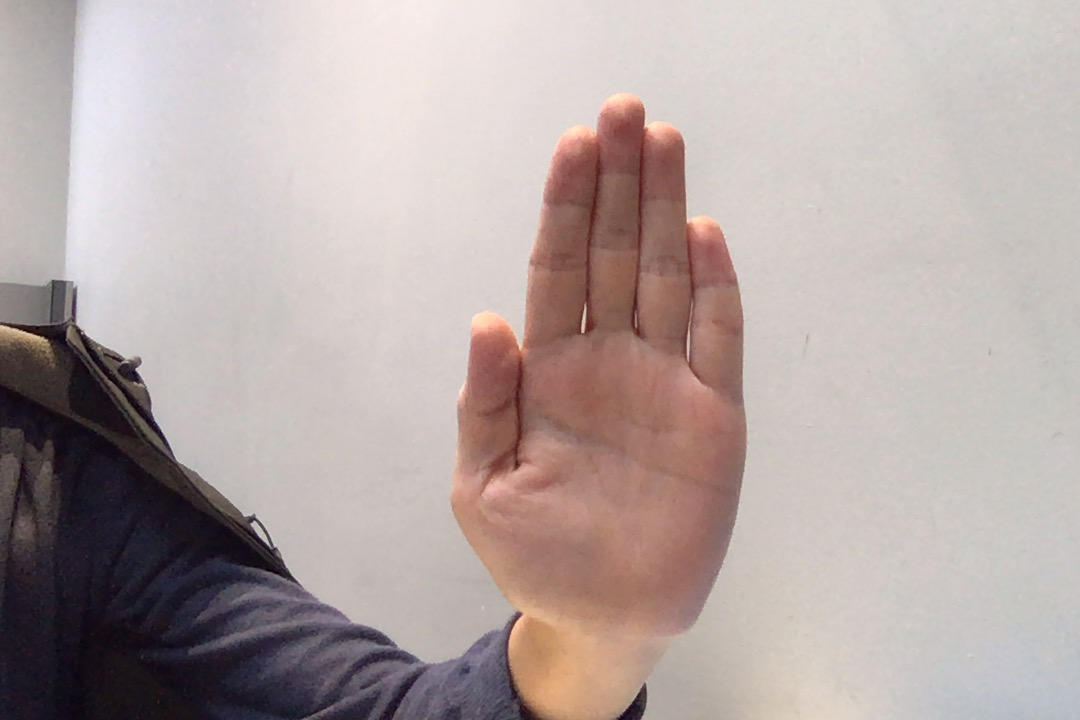palmhand: (438, 81, 765, 658)
